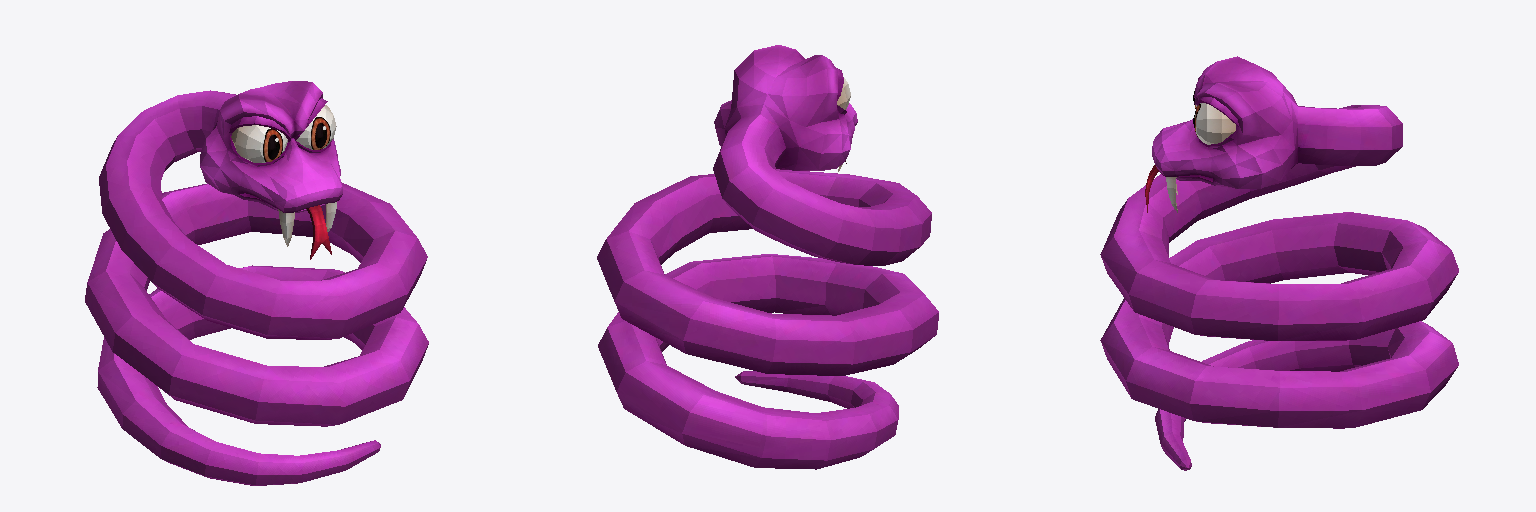
3 renders of one model, left to right at view 1: azimuth 30°, elevation 25°; view 2: azimuth 150°, elevation 25°; view 3: azimuth 270°, elevation 25°, orthographic.
Parts seen in each view (by area): view 1: Coily; view 2: Coily; view 3: Coily.
Part boxes in pixels (bbox=[...]): Coily: bbox=[85, 81, 428, 485]; Coily: bbox=[597, 45, 938, 469]; Coily: bbox=[1100, 56, 1458, 470].
Size of the model in its own units: 48.6 by 59.43 by 52.79.
Materials: 1 (1 with a texture image).